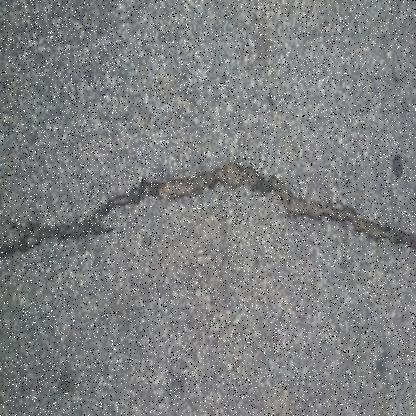Cracks: (0, 148, 415, 274)
